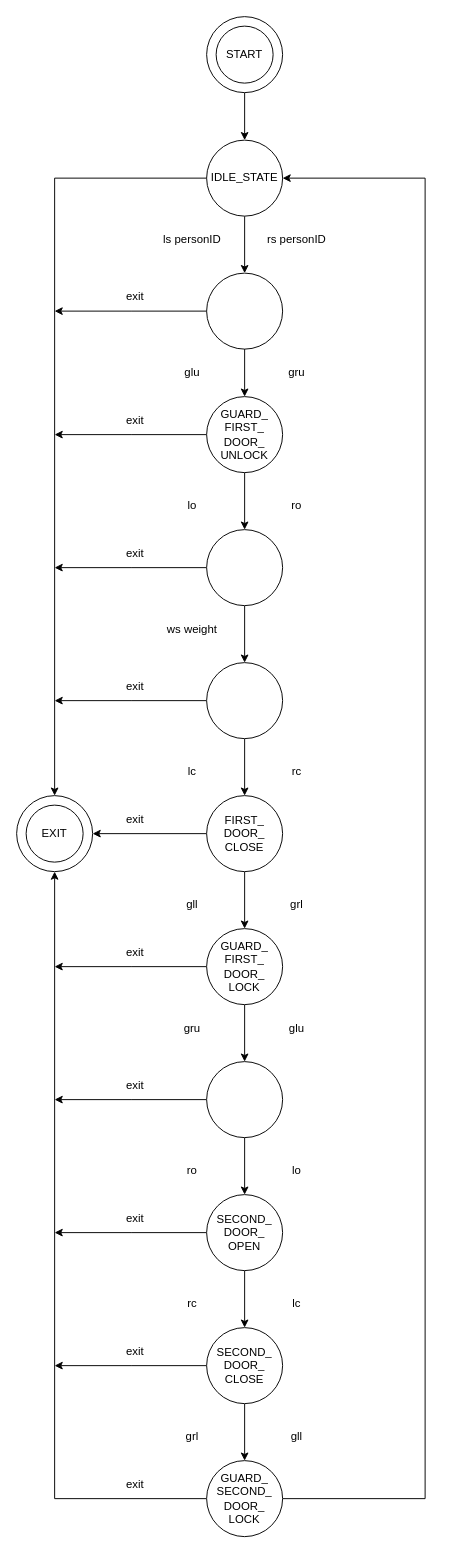
Image size: 449x1553. Some labels were removed from this diagram. The shapes that lost their labels are listed below. From the top down, each one's centre as x and y in pixels, then its label:
At (244,310): "FIRST_ DOOR_ SCAN".
At (244,567): "FIRST_ DOOR_ OPEN".
At (244,700): "WS".
At (244,1099): "GUARD_ SECOND_ DOOR_ UNLOCK".
